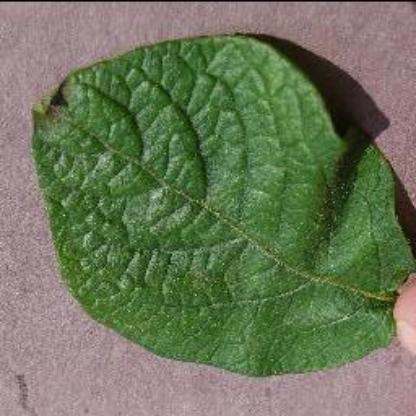Healthy-plant: (27, 26, 415, 382)
